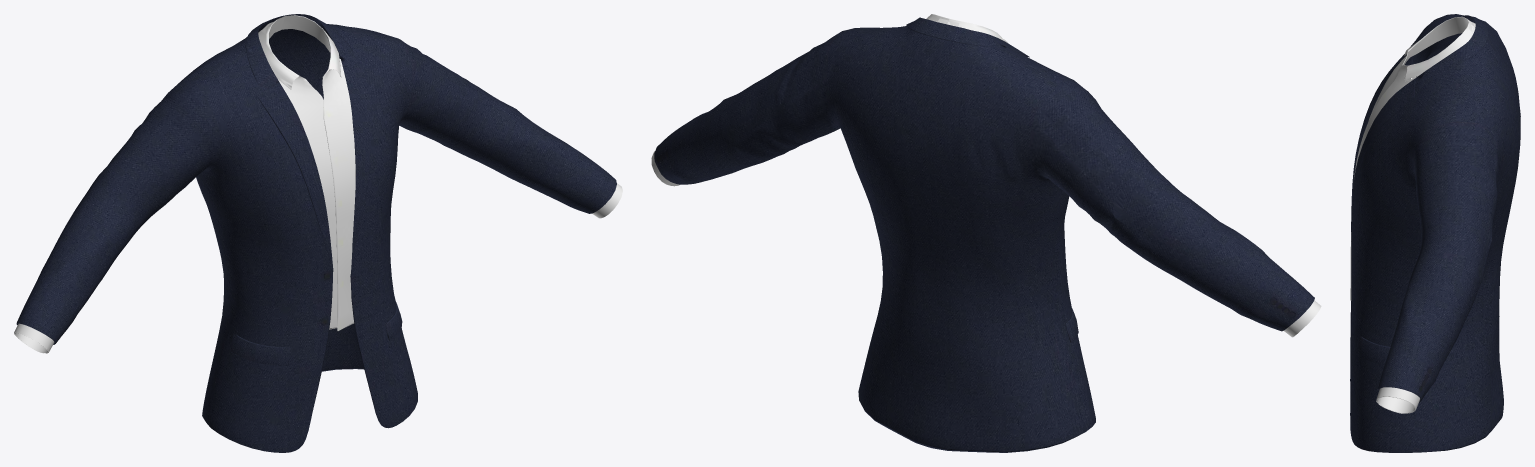
File: man-coprate.glb
3 renders of one model, left to right at view 1: azimuth 30°, elevation 25°; view 2: azimuth 150°, elevation 25°; view 3: azimuth 270°, elevation 25°, orthographic. The views are drawn at different scales.
Parts seen in each view (by area): view 1: Jacket_low, accessories_low; view 2: Jacket_low; view 3: Jacket_low, accessories_low.
Boxes of the visible parts, box(x1,y1,x2,y2) form: Jacket_low: box(14, 14, 622, 452); accessories_low: box(230, 302, 402, 365); Jacket_low: box(651, 14, 1321, 452); Jacket_low: box(1350, 14, 1520, 452); accessories_low: box(1357, 336, 1390, 365).
Size of the model in its own units: 2 by 1.21 by 0.4766.
Materials: 1 (1 with a texture image).
